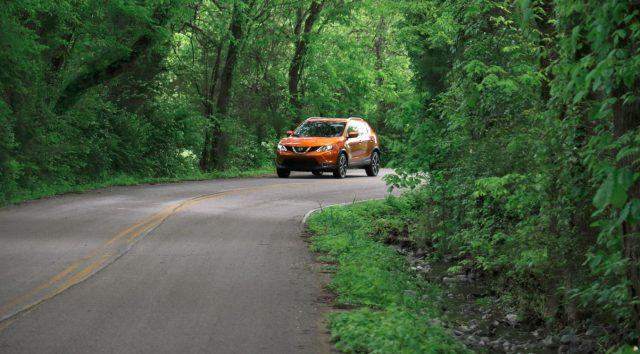car: (262, 109, 390, 187)
